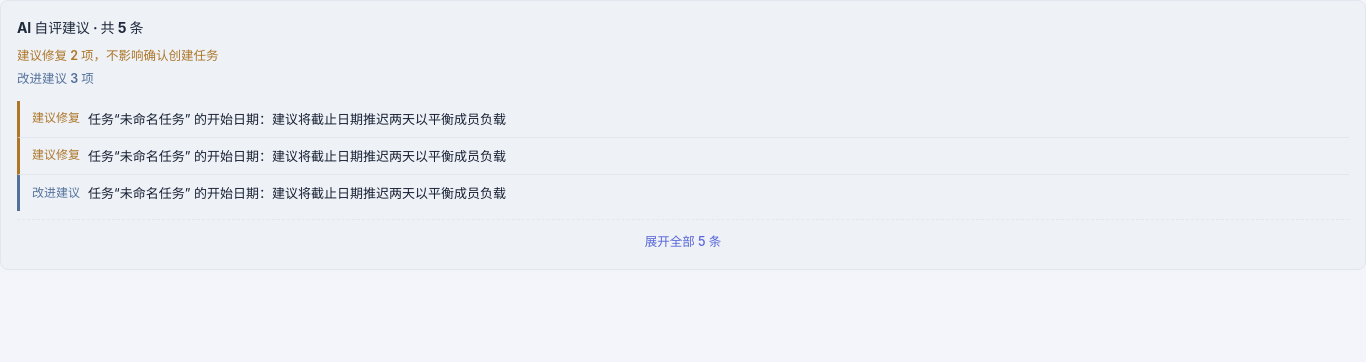
it: PlanningReflectPanel › expands all issues and collapses back
Click the button with test id "expand-reflect-issues".
click(683, 242)  # box [633,228,733,255]
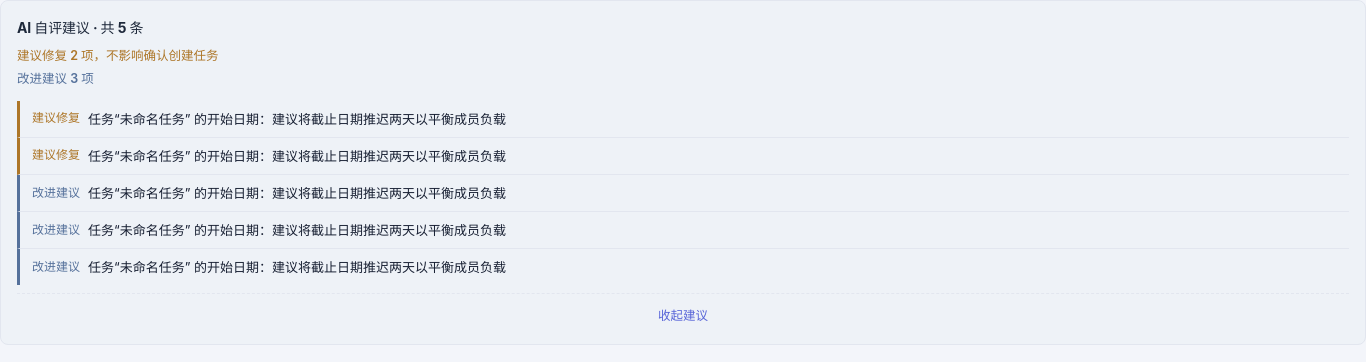
Check: the number of elements with class "issue-item" is 5, box [17,100,1349,138]; [17,138,1349,175]; [17,175,1349,212]; [17,212,1349,249]; [17,249,1349,285]
Click the button with test id "collapse-reflect-issues".
click(683, 316)  # box [646,302,720,330]
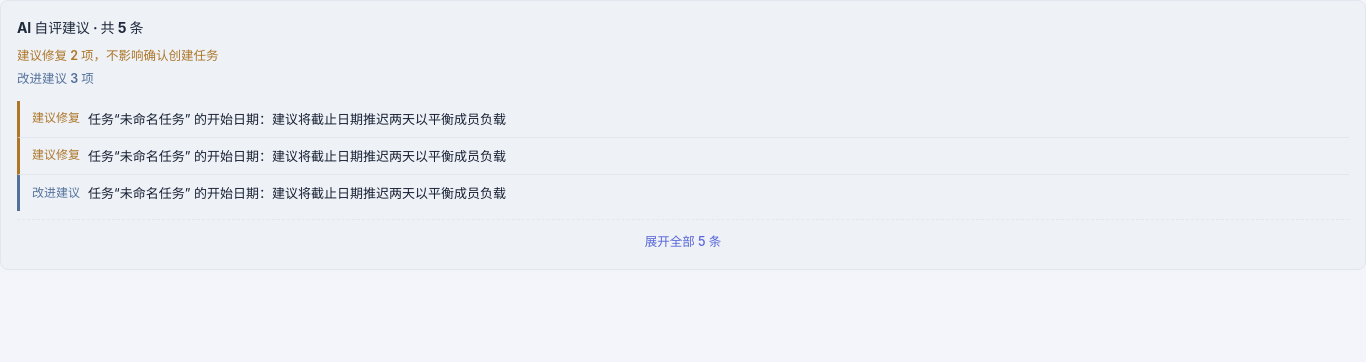
Check: the number of elements with class "issue-item" is 3, box [17,100,1349,138]; [17,138,1349,175]; [17,175,1349,211]
